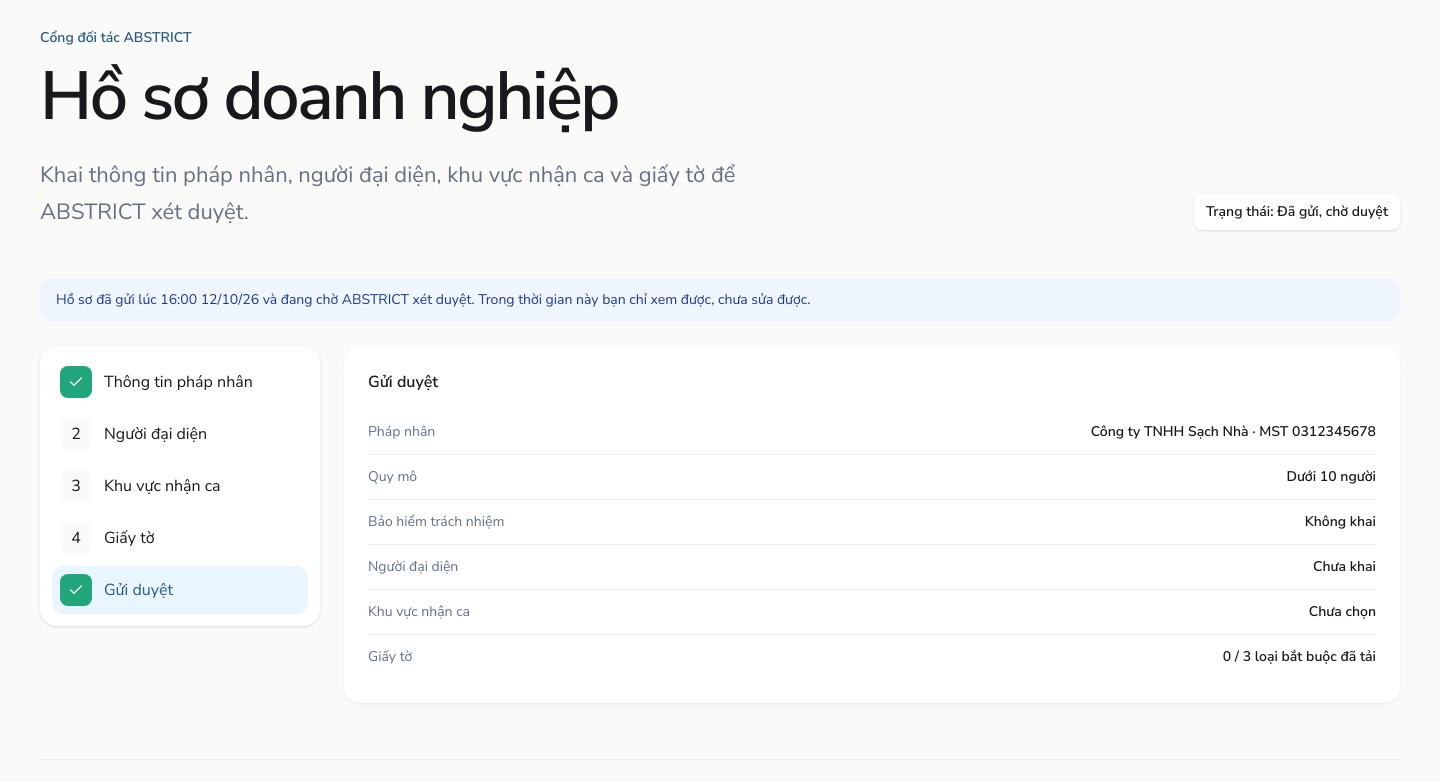
Scenario: Company onboarding › locks the forms while the dossier is awaiting review
This screenshot has width=1440, height=782.
Expected: the text "đang chờ ABSTRICT xét duyệt" is shown, [259,290,810,309]
Click the button "Thông tin pháp nhân": (180, 382) [52,358,308,406]
(page scrolled)
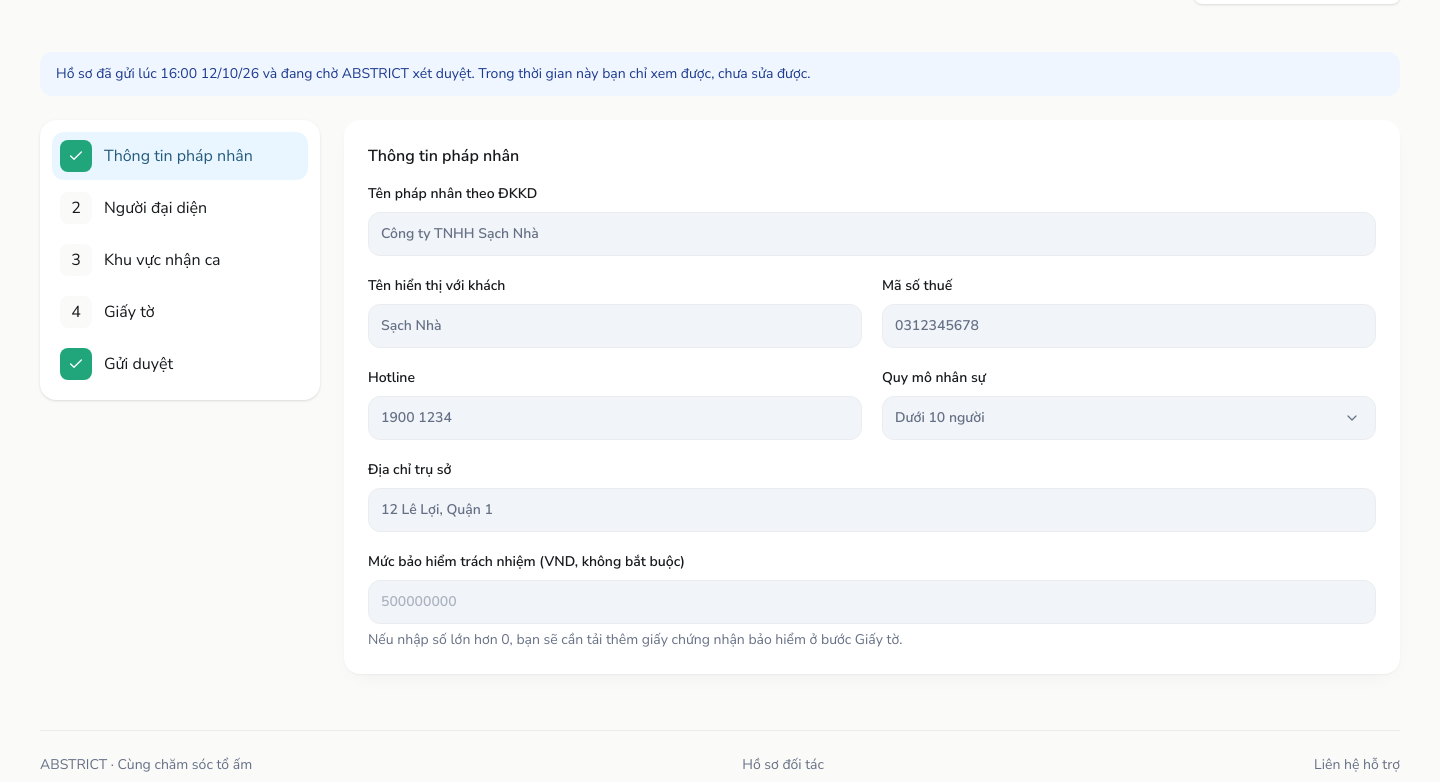
Expected: the element labelled "Mã số thuế" is disabled, [368,184,1376,650]
